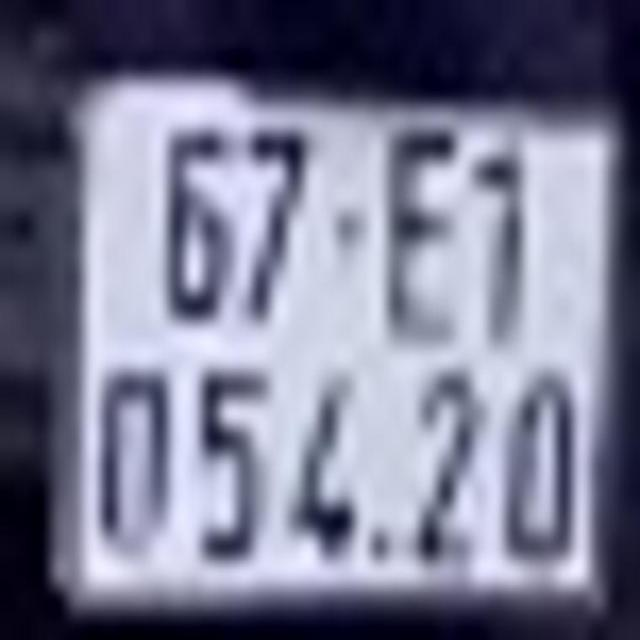0: (502, 369, 574, 562), (98, 363, 171, 551)
1: (472, 120, 524, 349)
2: (412, 370, 488, 560)
4: (294, 366, 358, 568)
5: (194, 363, 273, 567)
6: (170, 129, 237, 313)
7: (242, 120, 316, 318)
E: (382, 120, 460, 338)
